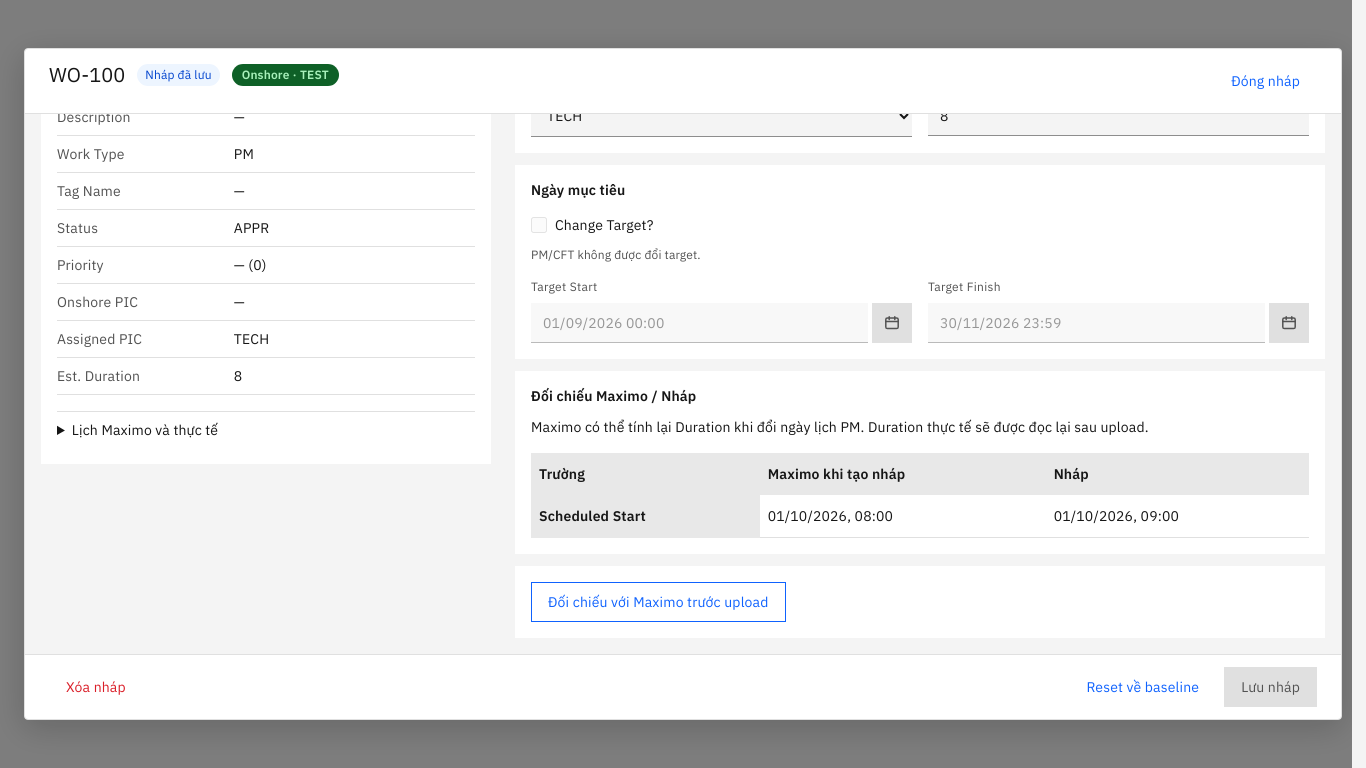
warns on PM schedule preview and shows the confirmed Maximo duration after upload
The image size is (1366, 768).
(page scrolled)
Click the button "Đối chiếu với Maximo trước upload".
click(658, 602)  # box top-left (531, 582), bottom-right (786, 622)
(page scrolled)
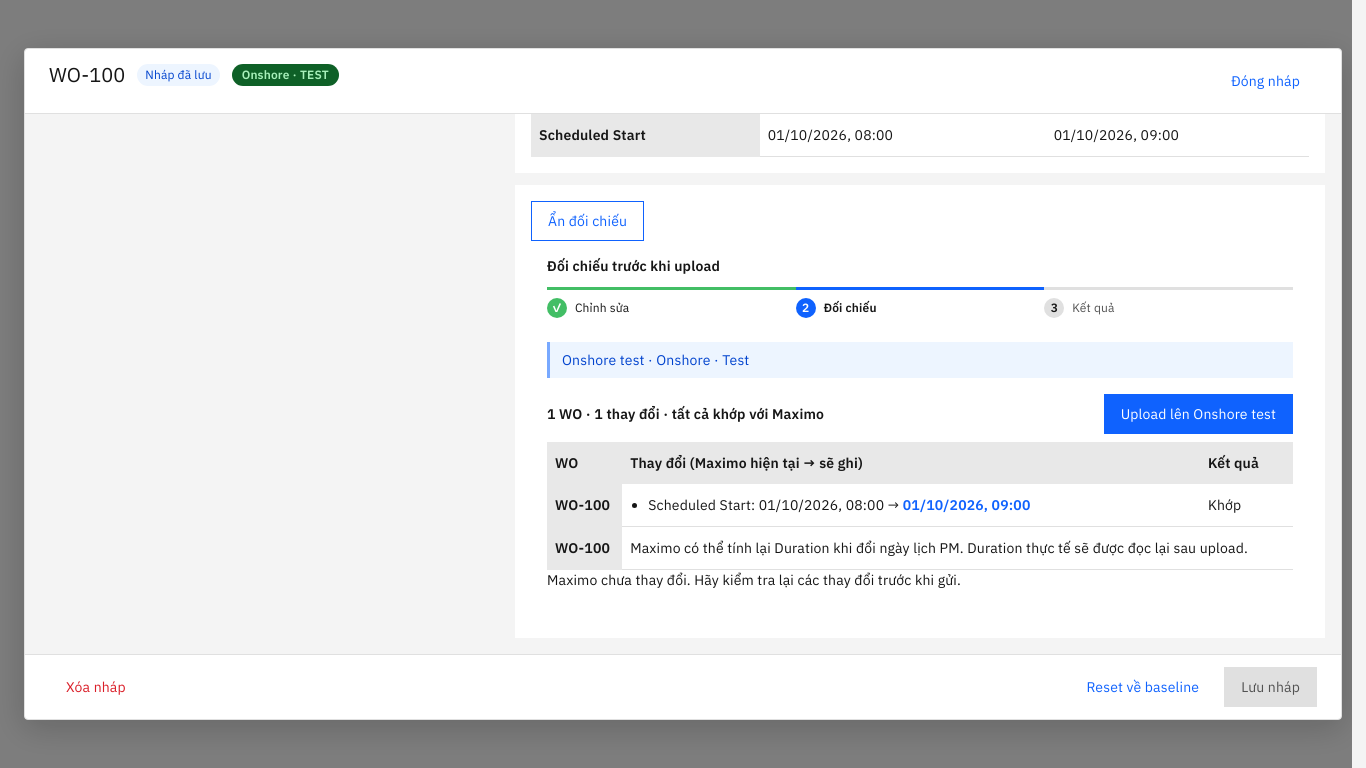
Click the button "Upload lên Onshore test".
click(1198, 414)  # box top-left (1104, 394), bottom-right (1293, 434)
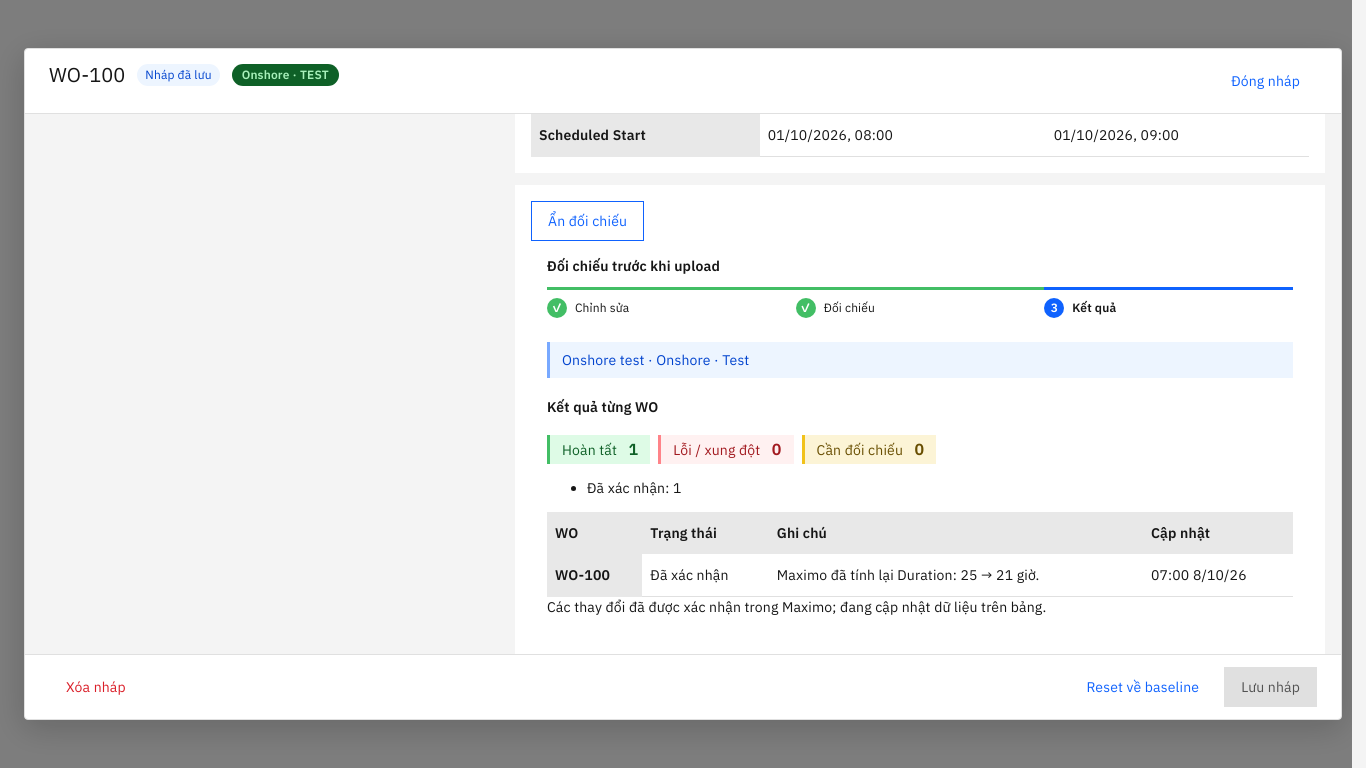
expect the text "Maximo đã tính lại Duration: 25 → 21 giờ." is shown: met, box top-left (769, 554), bottom-right (1143, 597)
expect the text "Đã xác nhận" is shown: met, box top-left (642, 554), bottom-right (769, 597)
